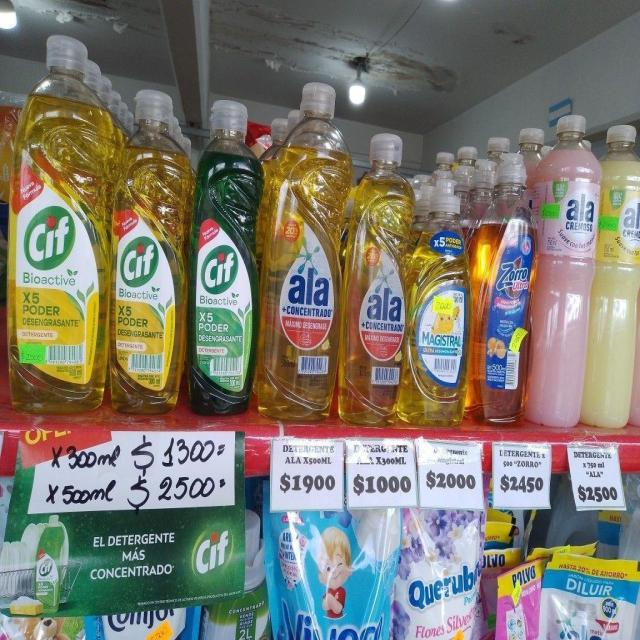ala_conc_amarillo: (260, 79, 344, 424), (343, 130, 408, 429)
cif_conc_bot_amarilla: (8, 36, 109, 416), (111, 83, 187, 416)
cif_conc_botella_verde: (190, 93, 257, 415)
magistral_con_amarillo: (408, 145, 469, 427)
